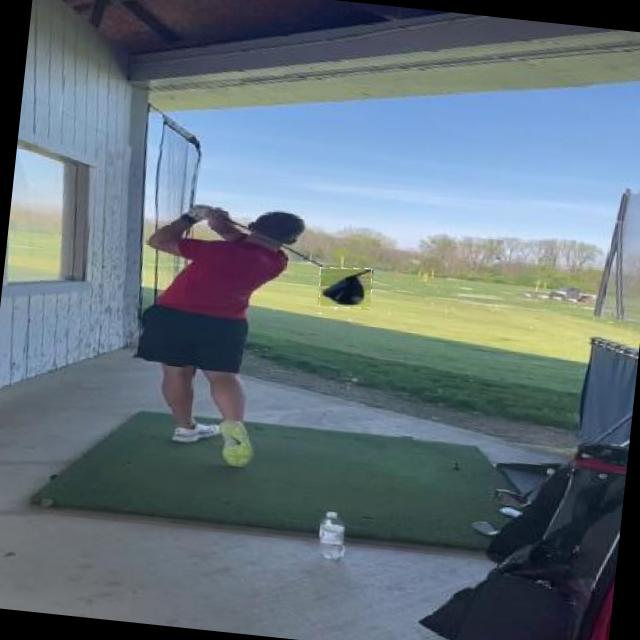club head: (316, 264, 374, 310)
